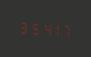five: (29, 18, 39, 36)
four: (40, 19, 50, 37)
one: (51, 20, 61, 38)
seven: (62, 21, 72, 38)
three: (18, 18, 28, 35)
